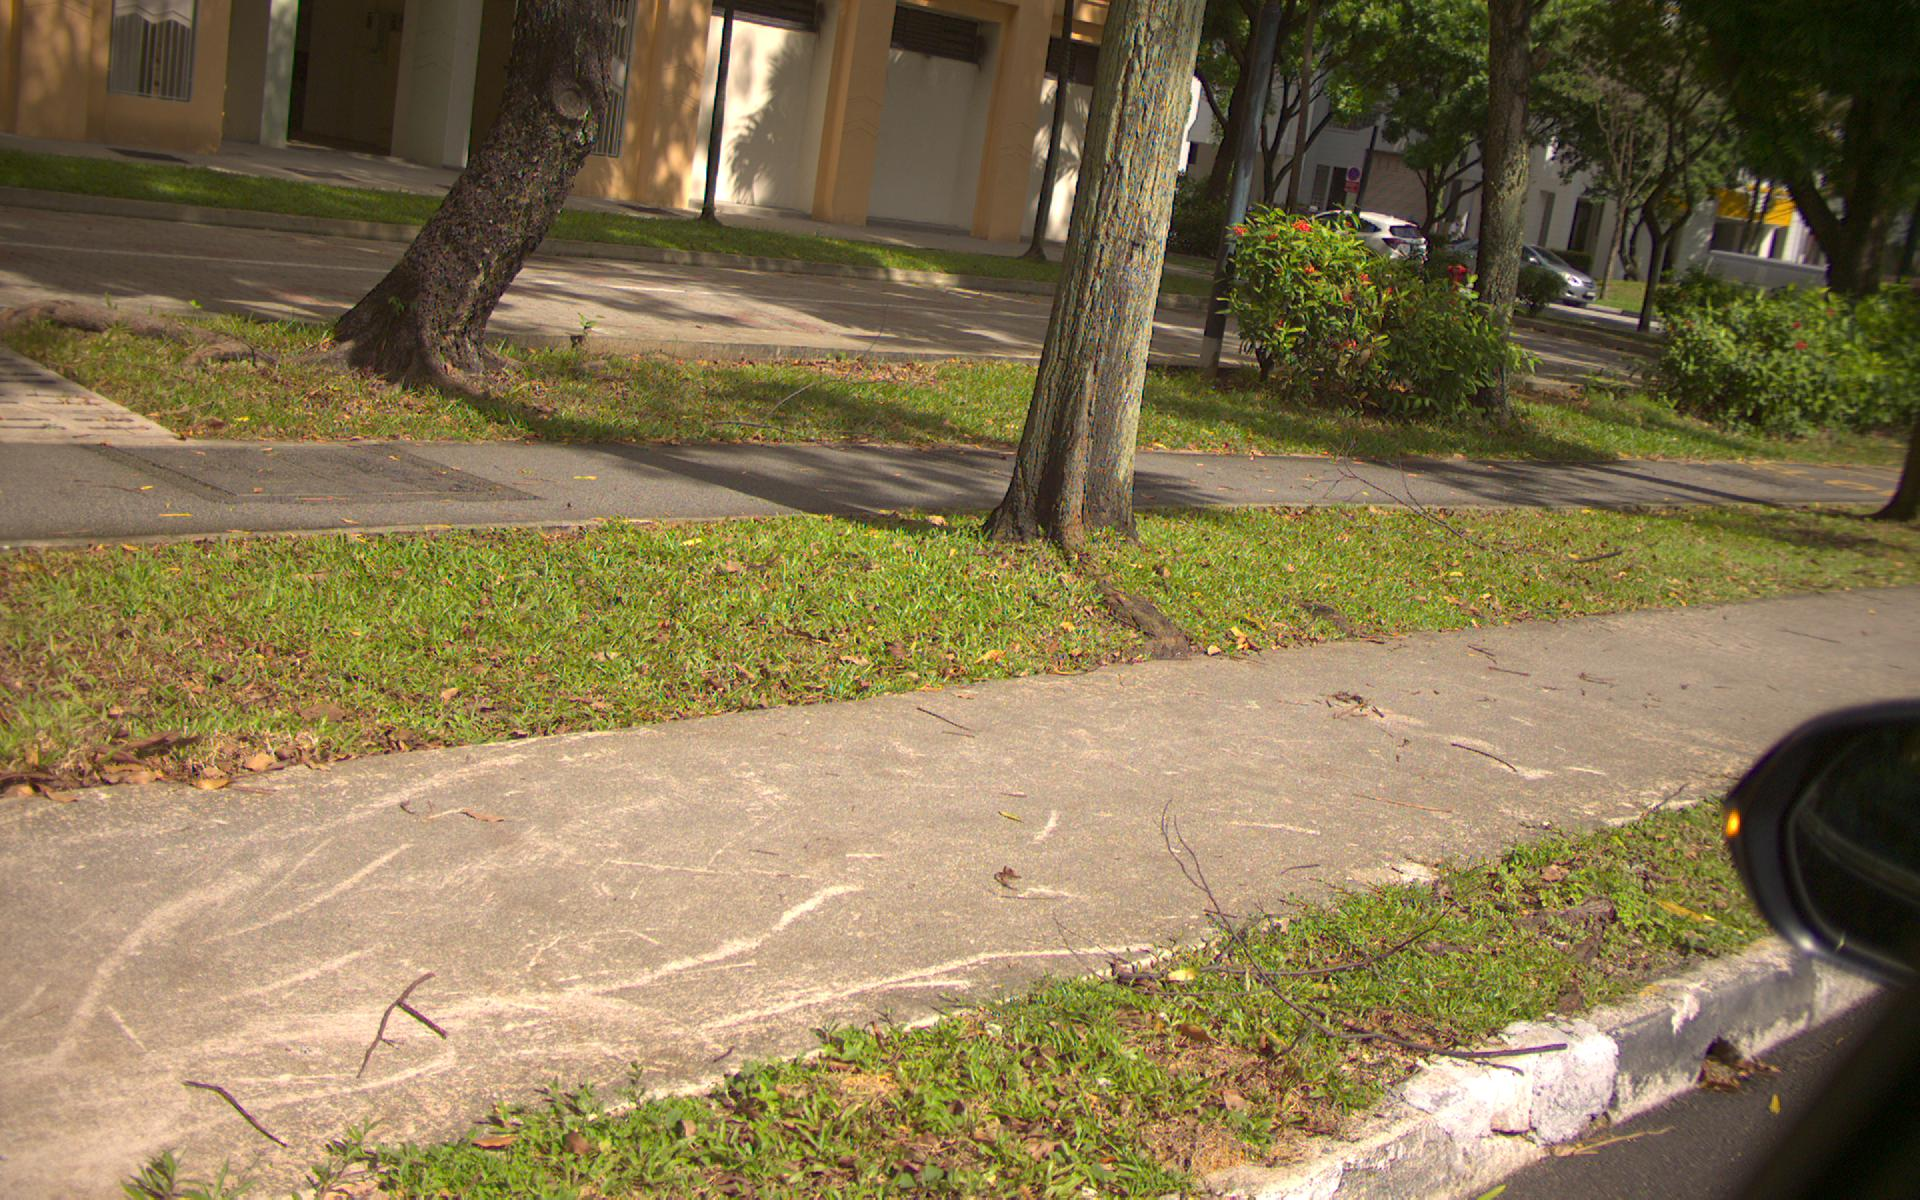pathway_low: (8, 795, 827, 1062), (1, 447, 995, 512)
road_turf_low: (17, 545, 950, 682), (1196, 368, 1920, 455), (1236, 503, 1920, 588), (117, 321, 600, 431)
